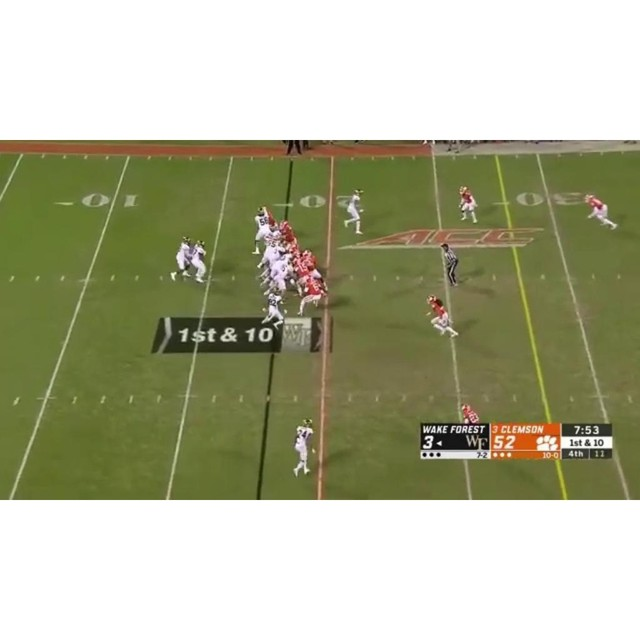american-football-player: (425, 294, 459, 337), (292, 419, 314, 478), (584, 193, 618, 230), (297, 271, 323, 317), (250, 206, 272, 255), (343, 188, 365, 235), (261, 289, 286, 327), (173, 235, 193, 280), (190, 240, 208, 284), (458, 185, 479, 222), (461, 404, 480, 425)
referee: (440, 242, 460, 287)
